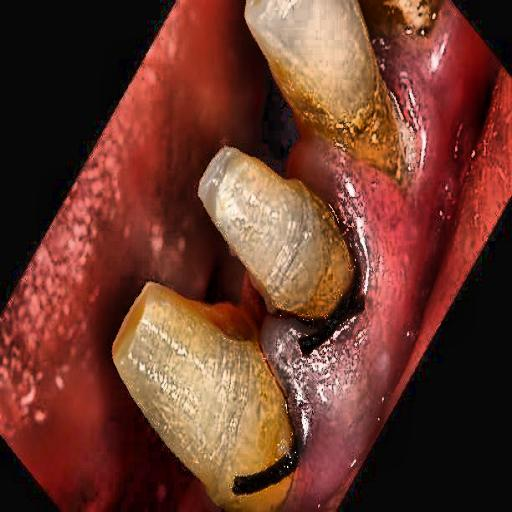Calculus: (258, 30, 421, 347), (174, 327, 303, 512)
